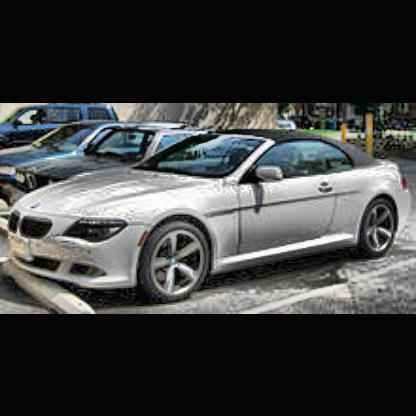BMW 6 Series Convertible 2007: (12, 130, 409, 305)
